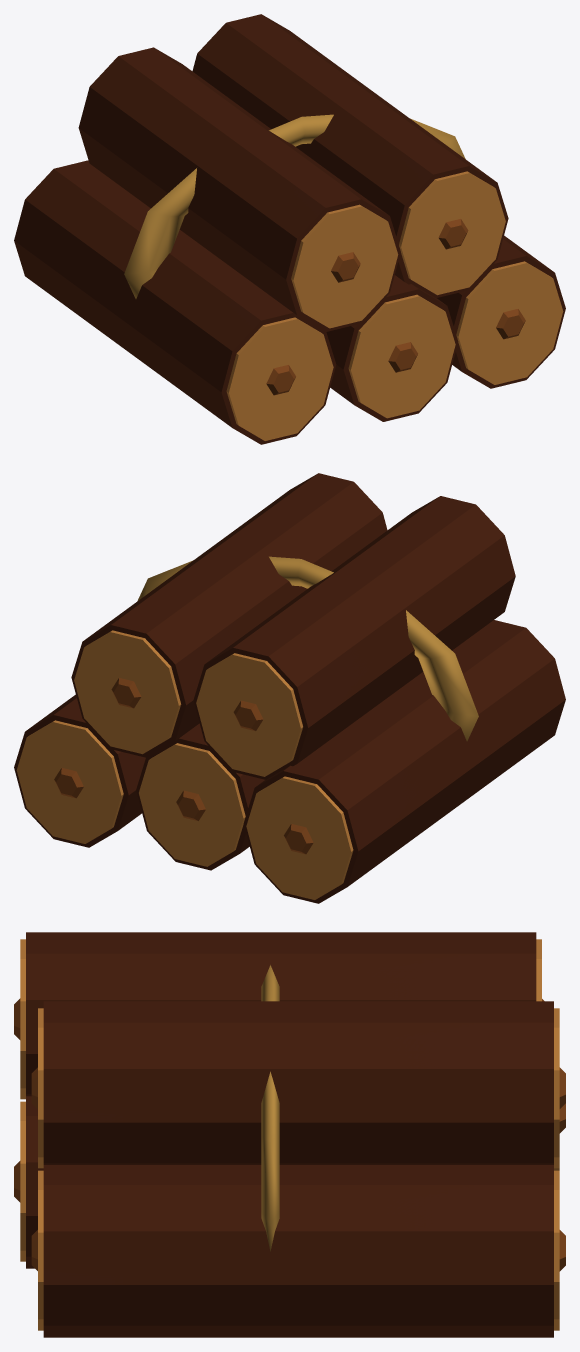
Rendered from pile-wood-5.obj.
3 views of the same model, one above another, from view 1: azimuth 30°, elevation 25°; view 2: azimuth 150°, elevation 25°; view 3: azimuth 270°, elevation 25° (orthographic). The views are drawn at different scales.
Visible parts, largest first — view 1: pile-wood-5; view 2: pile-wood-5; view 3: pile-wood-5.
Part boxes in pixels (x1,y1,x2,y2): pile-wood-5: (14,14,565,444); pile-wood-5: (14,473,565,903); pile-wood-5: (14,932,565,1337).
Size of the model in its own units: 0.7107 by 0.4368 by 0.779.
Materials: 1 (1 with a texture image).
